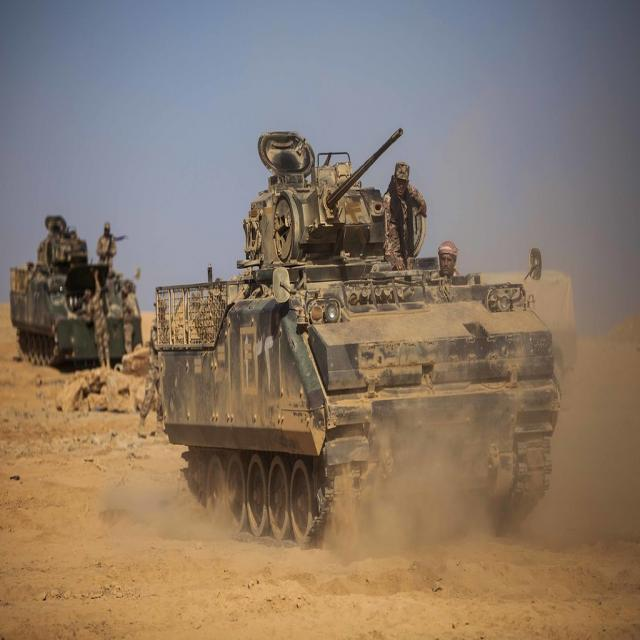tank: (153, 128, 556, 548), (10, 213, 142, 369)
